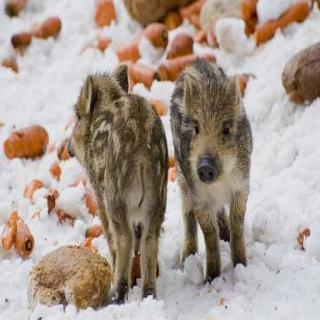Pig: (142, 48, 306, 262), (55, 62, 185, 278)
